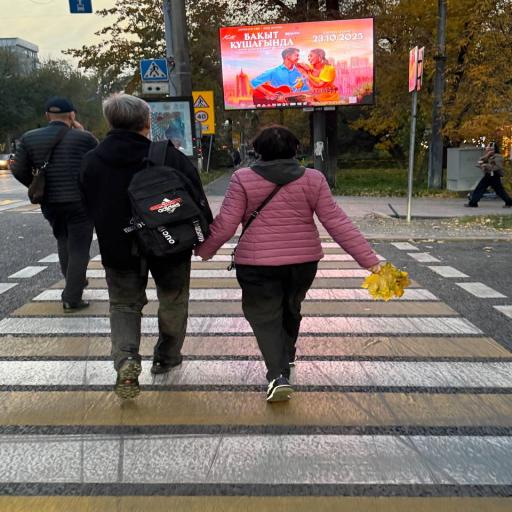closet: (0, 233, 511, 512)
door: (124, 141, 208, 257)
laptop: (196, 126, 380, 401), (80, 94, 191, 399)
phone: (429, 0, 447, 188)
